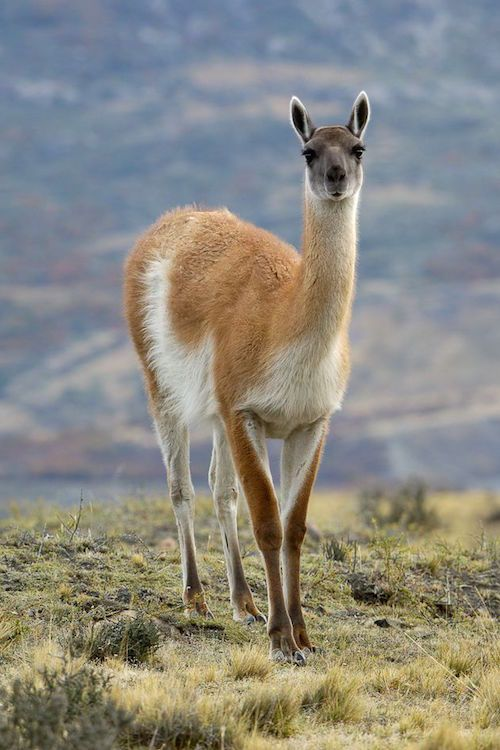eye: (307, 145, 313, 163), (356, 143, 361, 163)
mouth: (318, 176, 353, 209)
